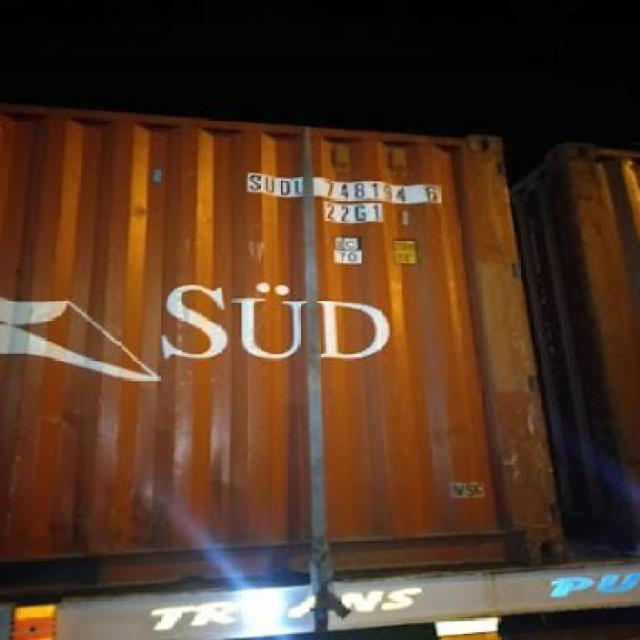ISO: (324, 204, 380, 223)
container_number: (248, 177, 438, 202)
